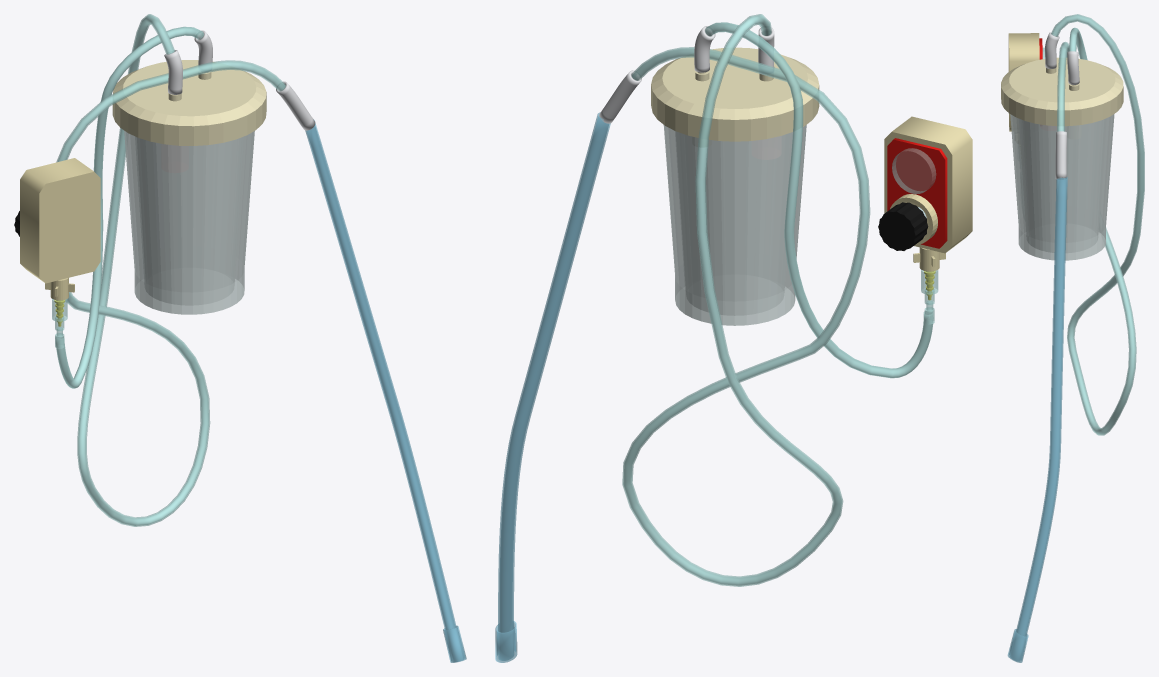
The model's file is pump.fbx.
The picture shows the model from 3 angles, left to right: view 1: azimuth 30°, elevation 25°; view 2: azimuth 150°, elevation 25°; view 3: azimuth 270°, elevation 25°; orthographic projection. The views are drawn at different scales.
Visible parts, largest first — view 1: Container, SuctionTube, Lid, outletBack, yankauer.001, BezierCurve, BezierCurve.001; view 2: Container, SuctionTube, Lid, yankauer.001, BezierCurve, outletBack, outletfront, nob, Cylinder.001, BezierCurve.001, Cylinder, BezierCurve.002; view 3: Container, SuctionTube, Lid, yankauer.001, outletBack, BezierCurve.001, TopRubberConnector, BezierCurve.002, BezierCurve.
Part boxes in pixels (bbox=[...]): Container: bbox=[124, 130, 254, 314]; SuctionTube: bbox=[56, 14, 285, 526]; Lid: bbox=[112, 60, 266, 145]; outletBack: bbox=[20, 158, 100, 283]; yankauer.001: bbox=[305, 120, 466, 662]; BezierCurve: bbox=[55, 26, 203, 388]; BezierCurve.001: bbox=[276, 81, 315, 130]; Container: bbox=[663, 125, 806, 325]; SuctionTube: bbox=[622, 14, 870, 586]; Lid: bbox=[651, 47, 819, 141]; yankauer.001: bbox=[495, 112, 610, 662]; BezierCurve: bbox=[705, 22, 933, 378]; outletBack: bbox=[884, 116, 972, 253]; outletfront: bbox=[887, 138, 947, 248]; nob: bbox=[878, 202, 928, 250]; Cylinder.001: bbox=[892, 148, 935, 193]; BezierCurve.001: bbox=[599, 70, 641, 123]; Cylinder: bbox=[890, 194, 937, 244]; BezierCurve.002: bbox=[694, 26, 715, 72]; Container: bbox=[1010, 114, 1114, 260]; SuctionTube: bbox=[1051, 14, 1144, 435]; Lid: bbox=[1001, 57, 1123, 126]; yankauer.001: bbox=[1007, 177, 1067, 662]; outletBack: bbox=[1008, 33, 1039, 131]; BezierCurve.001: bbox=[1055, 131, 1066, 179]; TopRubberConnector: bbox=[1045, 32, 1059, 68]; BezierCurve.002: bbox=[1067, 51, 1079, 84]; BezierCurve: bbox=[1069, 27, 1087, 60].
Size of the model in its own units: 58.01 by 87.65 by 21.
